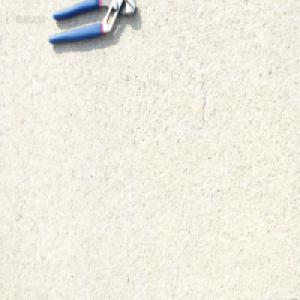Pliers: (48, 0, 136, 45)
